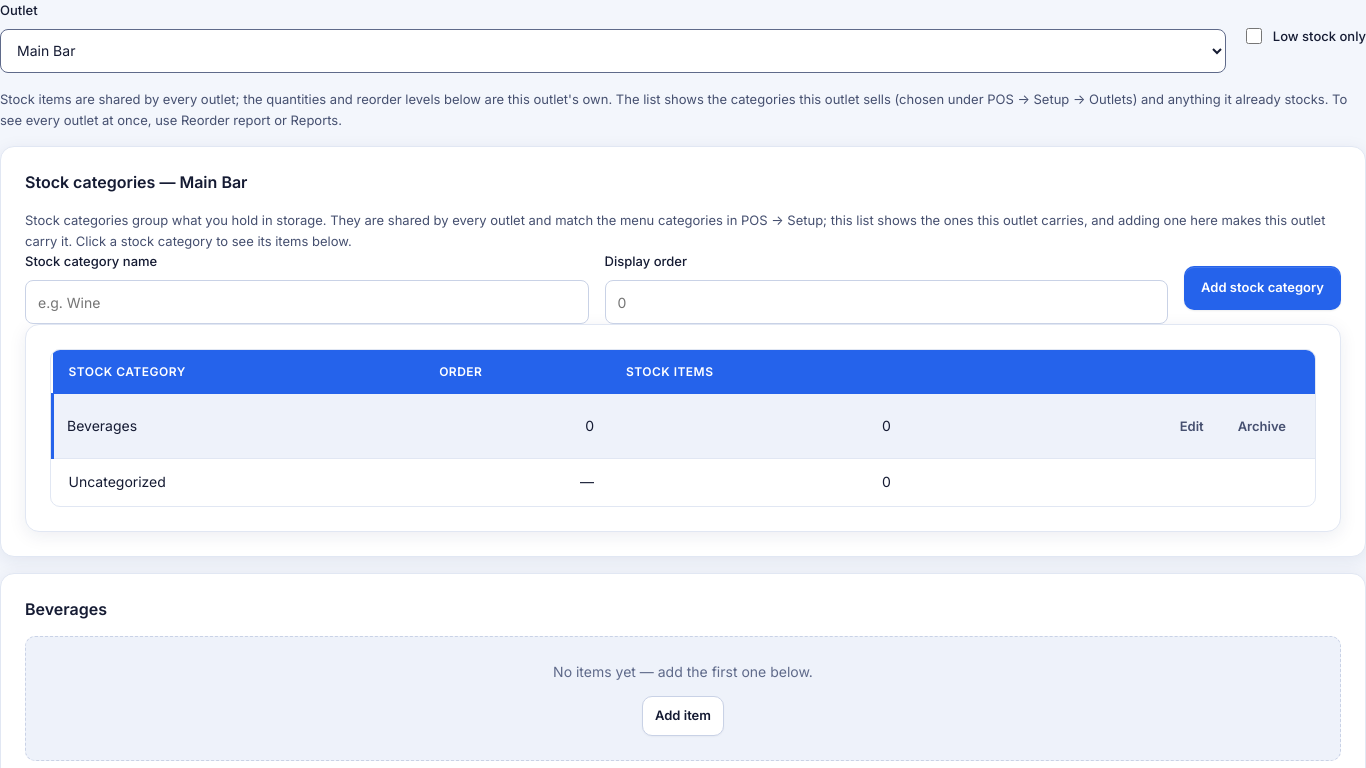
Test: <StockItemsTab> › creating an item directly inside a category — the category is implied, never a dropdown to pick from › the add panel closes on Cancel without submitting
Step 1. Click the button "Add item" → click(683, 716), box [642,696,724,736]
(page scrolled)
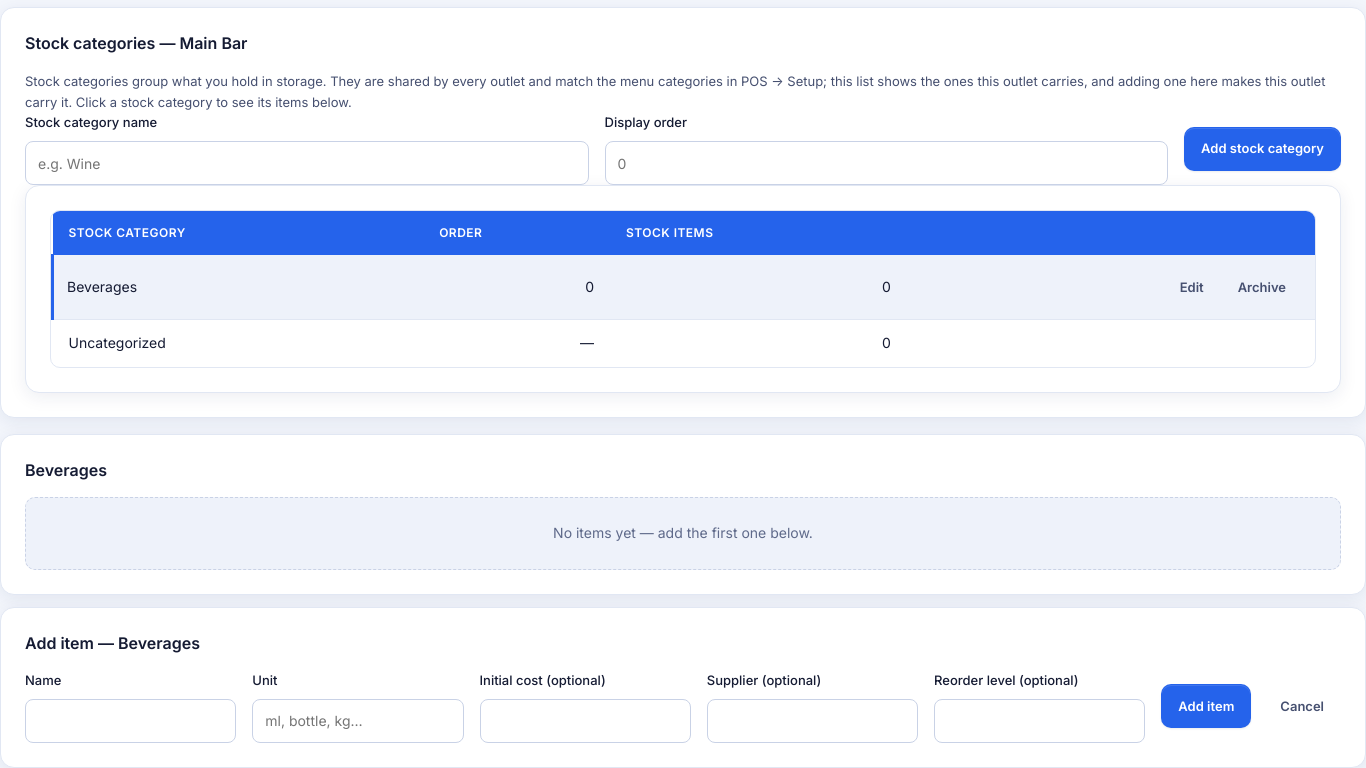
Step 2. Click the button "Cancel" → click(1302, 706), box [1263,684,1341,728]
(page scrolled)
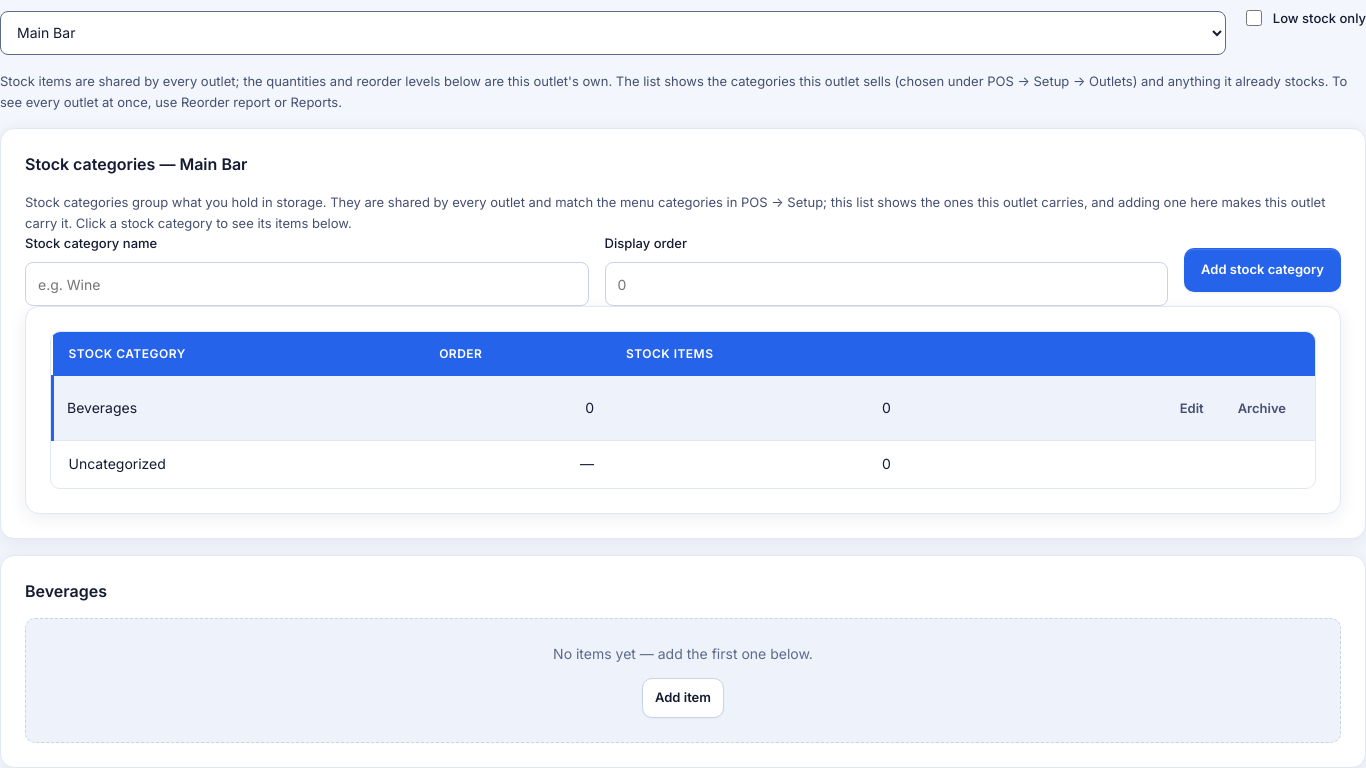
Expected: the button "Add item" is shown, [642,678,724,718]
Now the heading "Add item — Beverages" is gone
